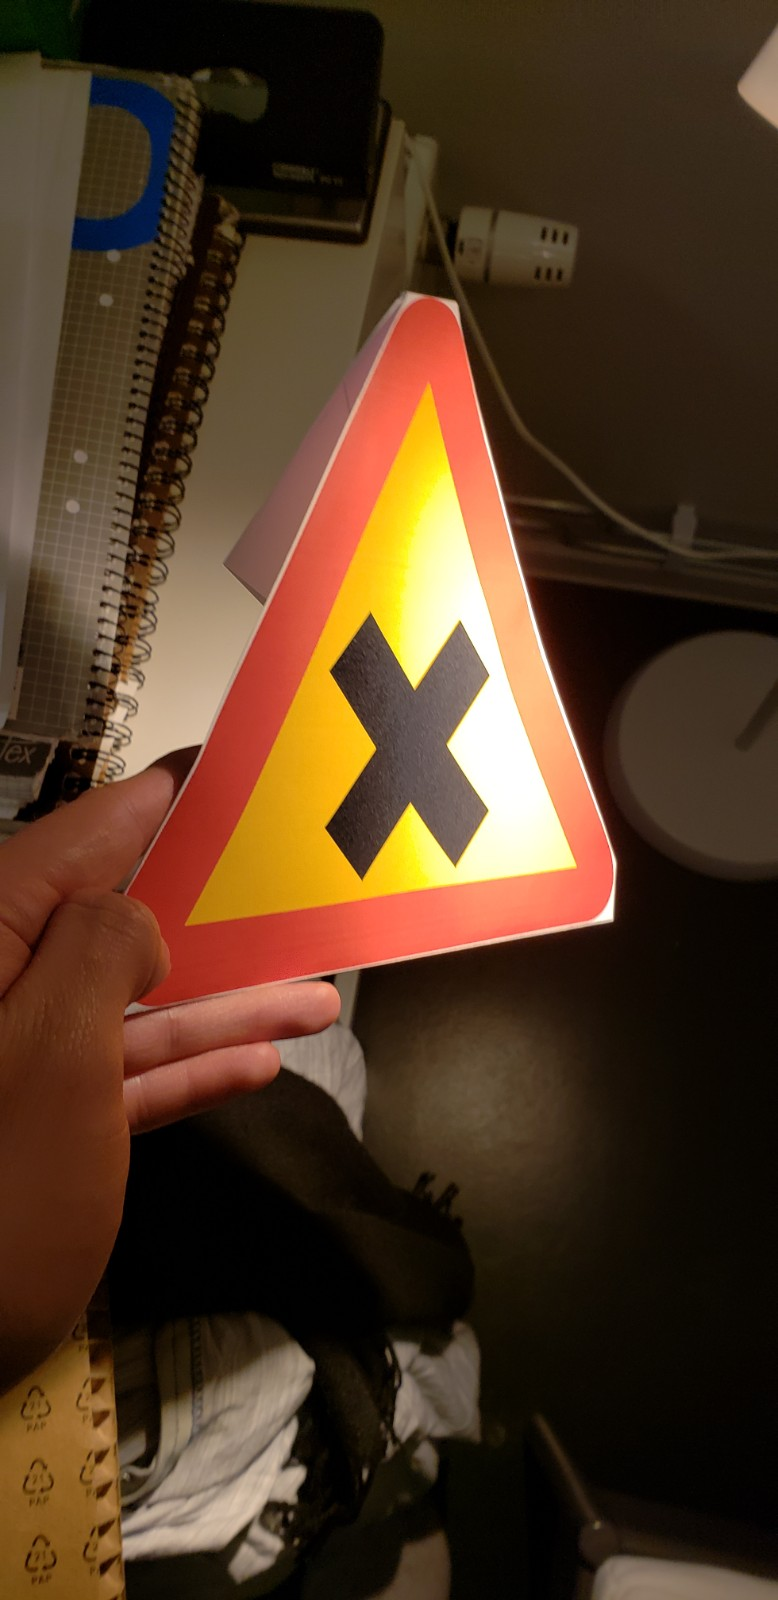junction: (91, 293, 679, 1008)
